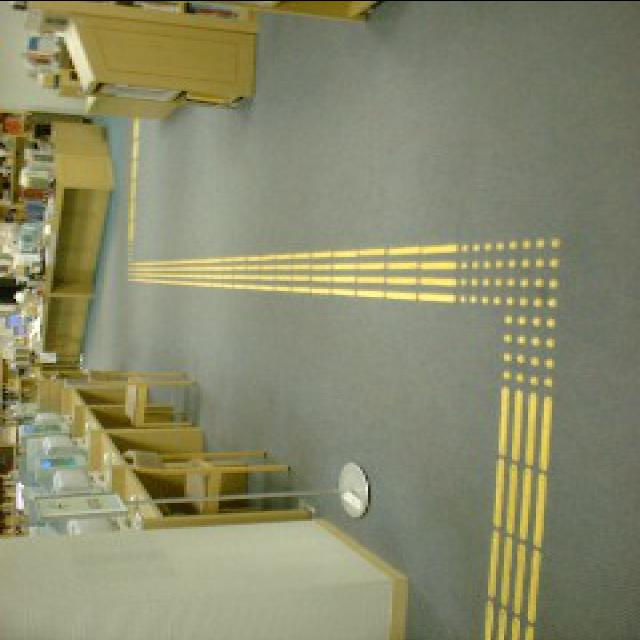tactile-guide-path: (128, 244, 456, 302), (482, 386, 553, 639), (459, 238, 557, 386)
